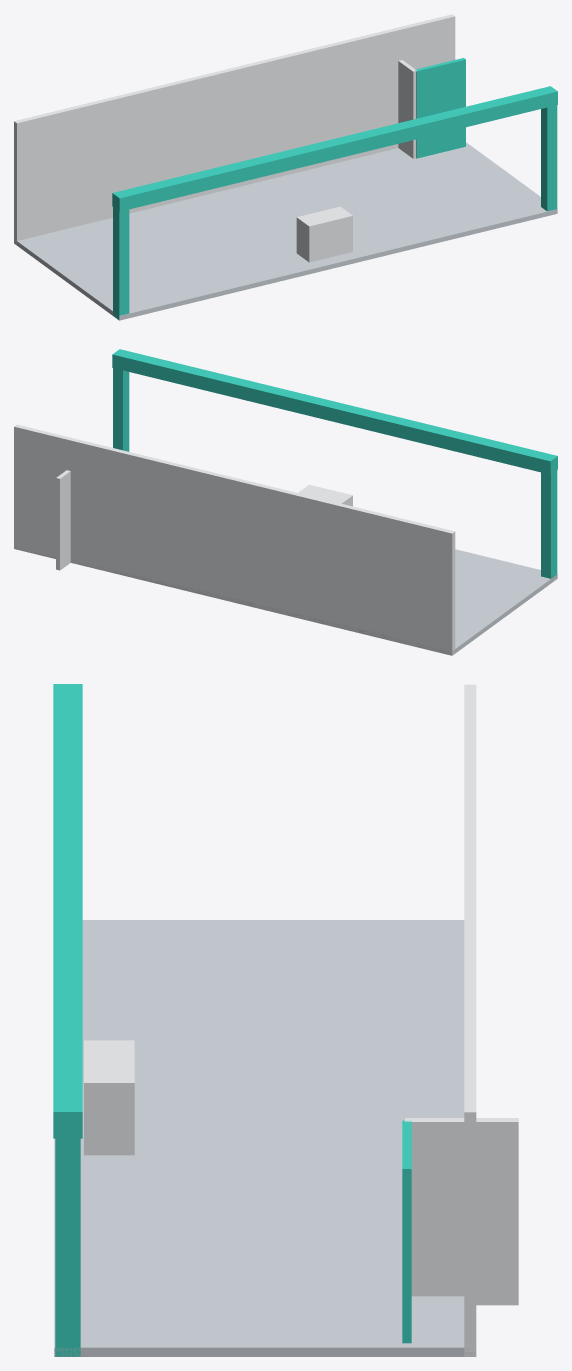
The picture shows the model from 3 angles, top to bottom: view 1: azimuth 30°, elevation 25°; view 2: azimuth 150°, elevation 25°; view 3: azimuth 270°, elevation 25°; orthographic projection. The views are drawn at different scales.
Parts seen in each view (by area): view 1: Exhibition Booth Concept; view 2: Exhibition Booth Concept; view 3: Exhibition Booth Concept.
Part boxes in pixels (x1,y1,x2,y2): Exhibition Booth Concept: (14, 14, 557, 320); Exhibition Booth Concept: (14, 349, 557, 655); Exhibition Booth Concept: (53, 684, 518, 1356).
Size of the model in its own units: 12 by 3.2 by 5.52.
